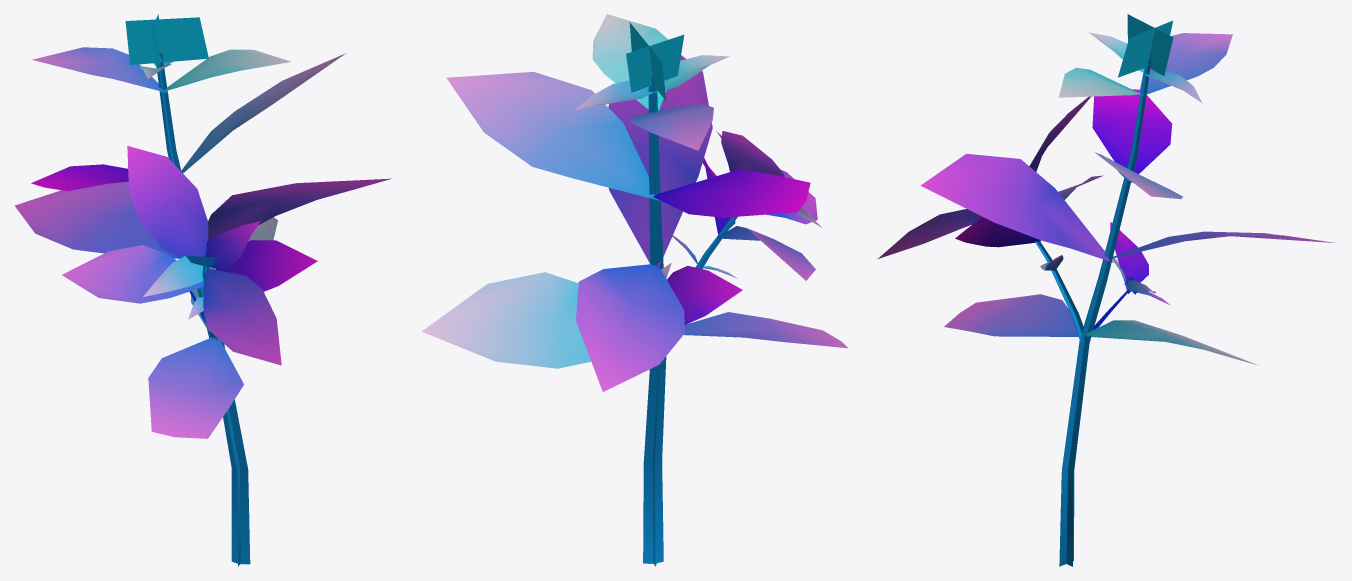
Rendered from Common_Hemp_Nettle_xh1kdfbqx_Mid_xh1kdfbqx_VarB_LOD1.fbx.
3 views of the same model, side by side, from view 1: azimuth 30°, elevation 25°; view 2: azimuth 150°, elevation 25°; view 3: azimuth 270°, elevation 25° (orthographic). The views are drawn at different scales.
Parts seen in each view (by area): view 1: _gq15_VarB_LOD3; view 2: _gq15_VarB_LOD3; view 3: _gq15_VarB_LOD3.
Part boxes in pixels (x1,y1,x2,y2): _gq15_VarB_LOD3: (14, 14, 391, 566); _gq15_VarB_LOD3: (422, 14, 847, 566); _gq15_VarB_LOD3: (878, 14, 1334, 566).
Bounding box in the file's own units: 50.79 × 79.46 × 63.6.
